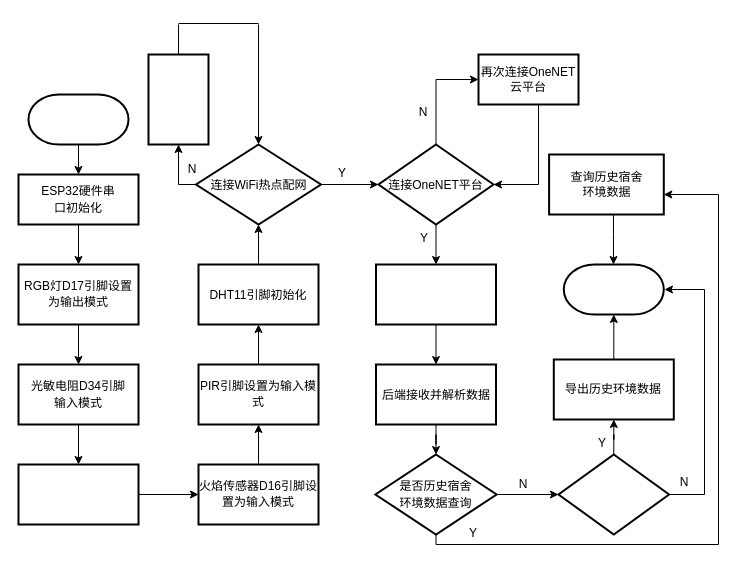
This 744x570 diagram has some shape labels left out. Here are the shapes that lost their labels. From the top down, the box of each, then its label:
(27, 93, 129, 145): 开始
(147, 53, 209, 145): 再次连接WiFi
(374, 263, 496, 325): ESP32通过Loop 循环上报数据
(562, 263, 664, 315): 结束
(17, 463, 139, 525): 蜂鸣器D5引脚 输出模式
(557, 453, 670, 535): 是否 历史宿舍 环境数据导出
